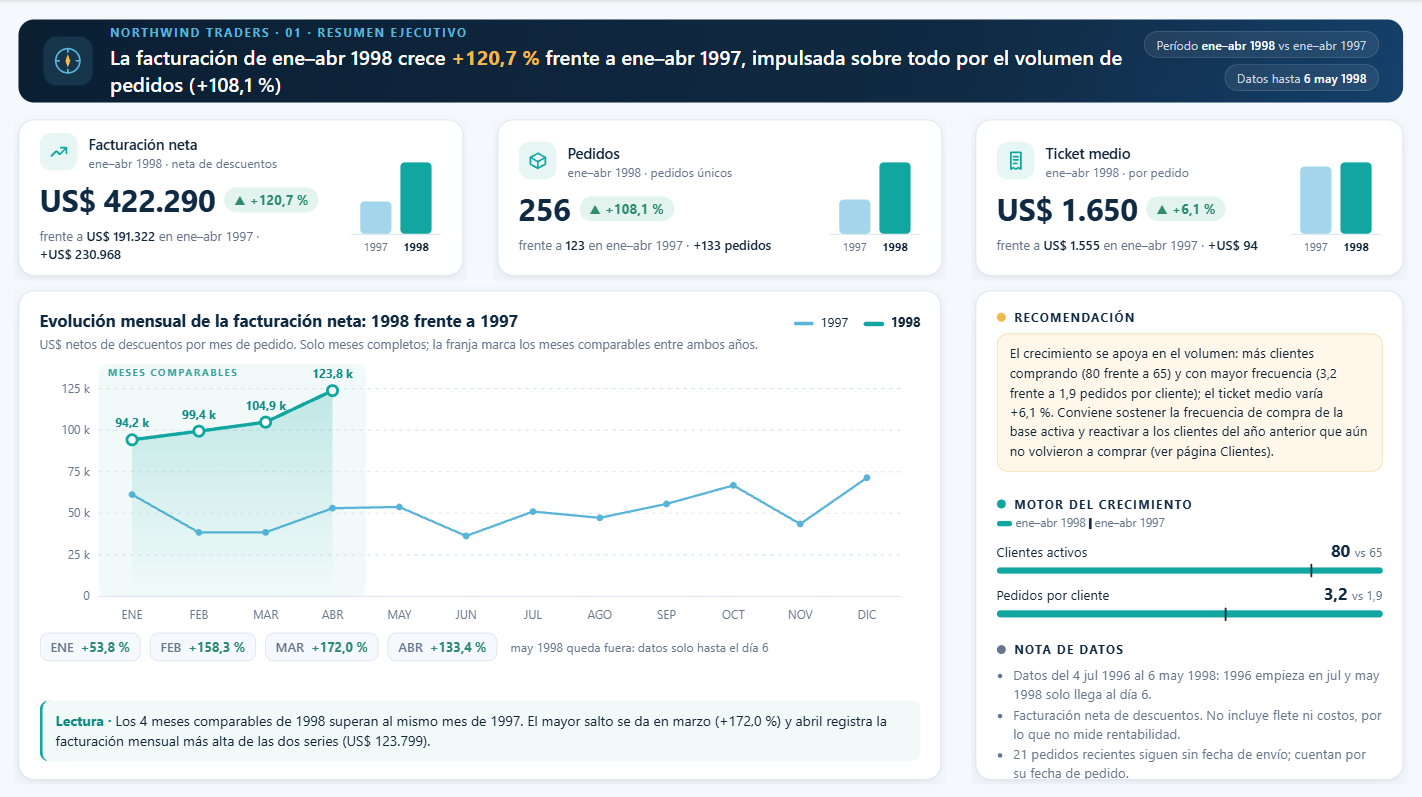

Layout of this report page (visuals, bound fields, positions):
{"tool":"powerbi","page":{"name":"RESUMEN","canvas":[1280,720],"ordinal":0},"visuals":[{"type":"htmlContent443BE3AD55E043BF878BED274D3A6855","fields":{"content":["!medidasHTML.HTML | P1 Encabezado"]},"box":[0,0,1280.2,111.2],"z":0},{"type":"htmlContent443BE3AD55E043BF878BED274D3A6855","fields":{"content":["!medidasHTML.HTML | KPI Facturacion"]},"box":[0,89.5,437.6,177.7],"z":1000},{"type":"htmlContent443BE3AD55E043BF878BED274D3A6855","fields":{"content":["!medidasHTML.HTML | KPI Pedidos"]},"box":[429.2,89.5,437.6,177.7],"z":2000},{"type":"htmlContent443BE3AD55E043BF878BED274D3A6855","fields":{"content":["!medidasHTML.HTML | KPI Ticket"]},"box":[857.1,89.5,423.1,177.7],"z":3000},{"type":"htmlContent443BE3AD55E043BF878BED274D3A6855","fields":{"content":["!medidasHTML.HTML | P1 Evolucion Mensual"]},"box":[0,243,866.8,476.3],"z":4000},{"type":"htmlContent443BE3AD55E043BF878BED274D3A6855","fields":{"content":["!medidasHTML.HTML | P1 Insights"]},"box":[857.1,243,423.1,476.3],"z":5000}]}

Visuals, with their boxes in screenshot pixels (x1, y1, x2, y2), scaled from the page's 1280x720 canvas onto the 1422x797 screenshot:
htmlContent443BE3AD55E043BF878BED274D3A6855 - !medidasHTML.HTML | P1 Encabezado: region(0, 0, 1421, 123)
htmlContent443BE3AD55E043BF878BED274D3A6855 - !medidasHTML.HTML | KPI Facturacion: region(0, 99, 486, 296)
htmlContent443BE3AD55E043BF878BED274D3A6855 - !medidasHTML.HTML | KPI Pedidos: region(477, 99, 963, 296)
htmlContent443BE3AD55E043BF878BED274D3A6855 - !medidasHTML.HTML | KPI Ticket: region(952, 99, 1421, 296)
htmlContent443BE3AD55E043BF878BED274D3A6855 - !medidasHTML.HTML | P1 Evolucion Mensual: region(0, 269, 963, 796)
htmlContent443BE3AD55E043BF878BED274D3A6855 - !medidasHTML.HTML | P1 Insights: region(952, 269, 1421, 796)
